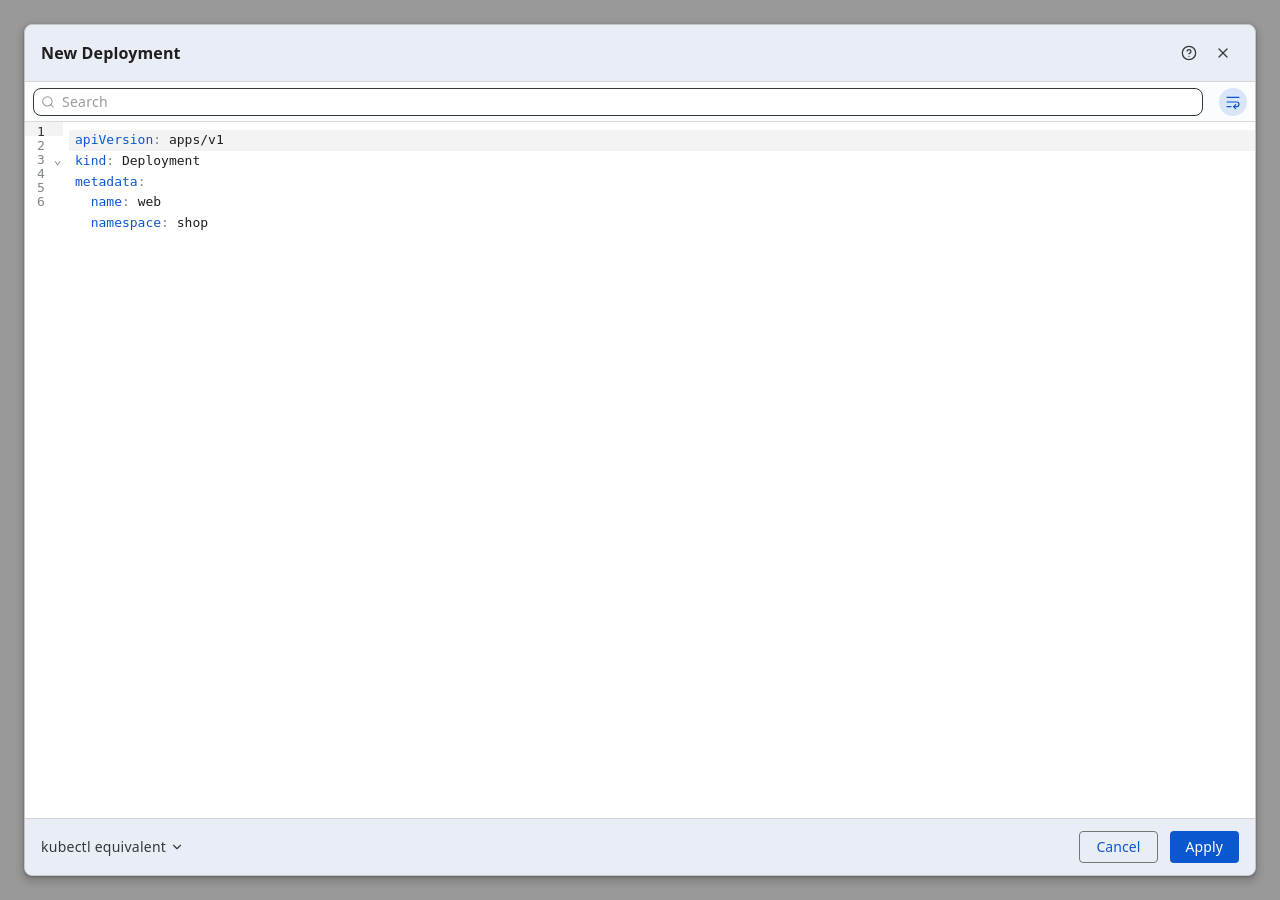
Test: a refused apply › names the owner and does not read as a failure
This screenshot has width=1280, height=900.
Click the button "Apply" at (1204, 847), box [1170,831,1239,863]
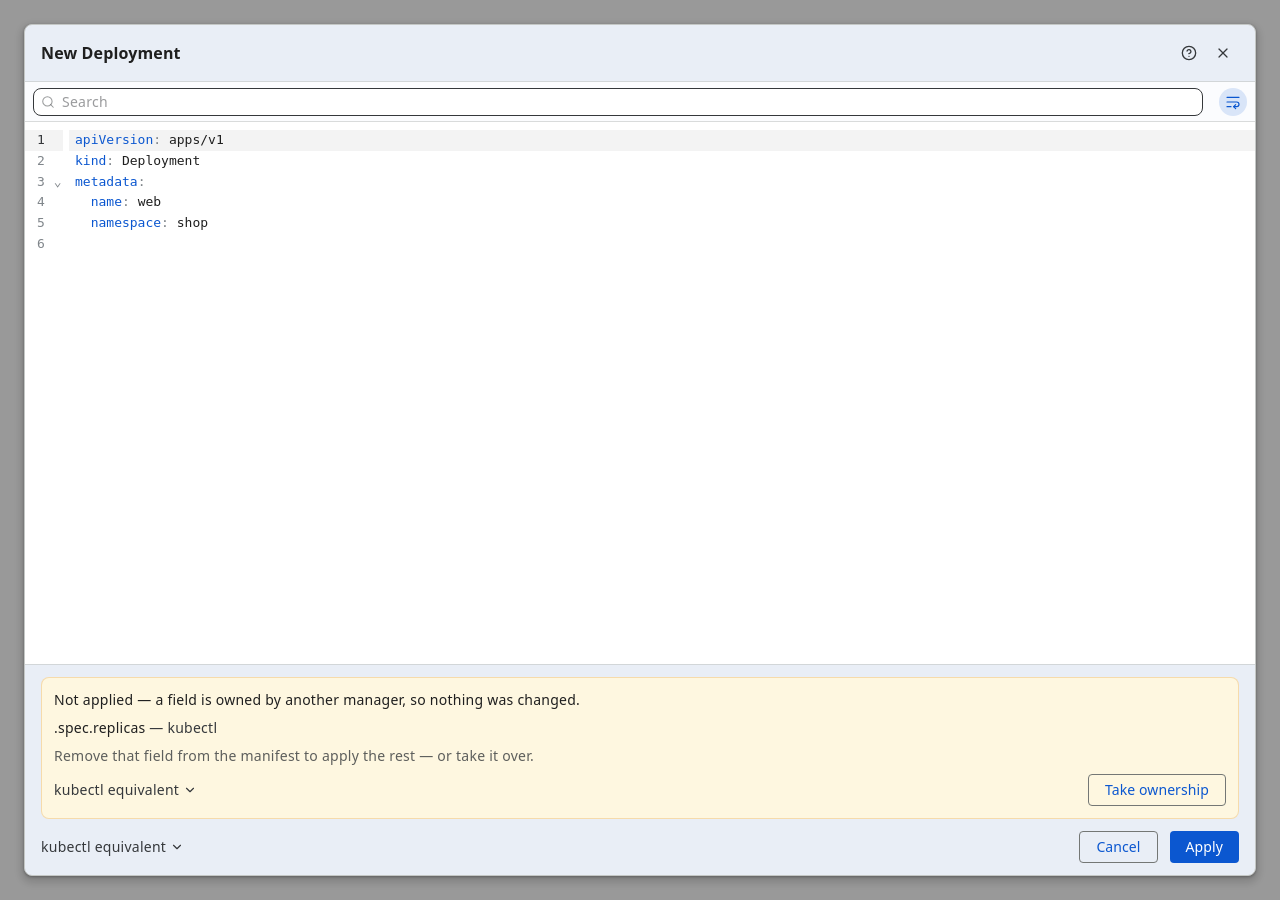
Check: the text "kubectl" is shown, box [146,718,217,737]
Check: the text ".spec.replicas" is shown, box [54,718,146,737]
Check: the text "nothing was changed" is shown, box [54,690,580,709]
